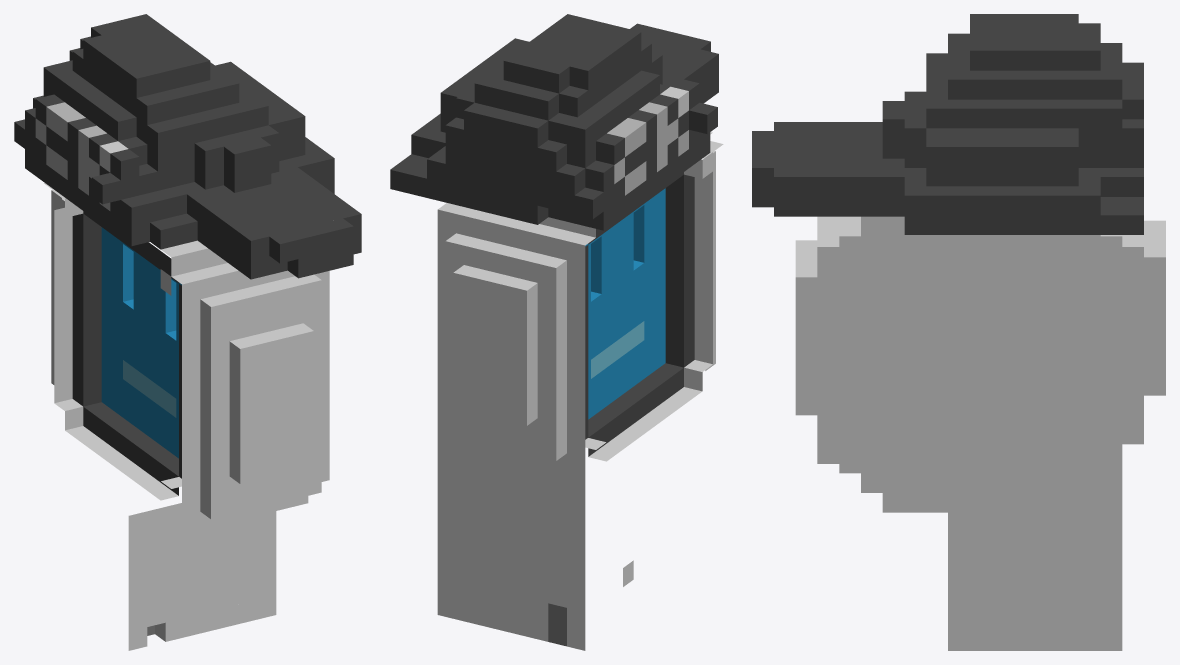
Rendered from robot-1050.gltf.
The picture shows the model from 3 angles, left to right: view 1: azimuth 30°, elevation 25°; view 2: azimuth 150°, elevation 25°; view 3: azimuth 270°, elevation 25°; orthographic projection. The views are drawn at different scales.
Size of the model in its own units: 0.4138 by 1 by 0.6552.
